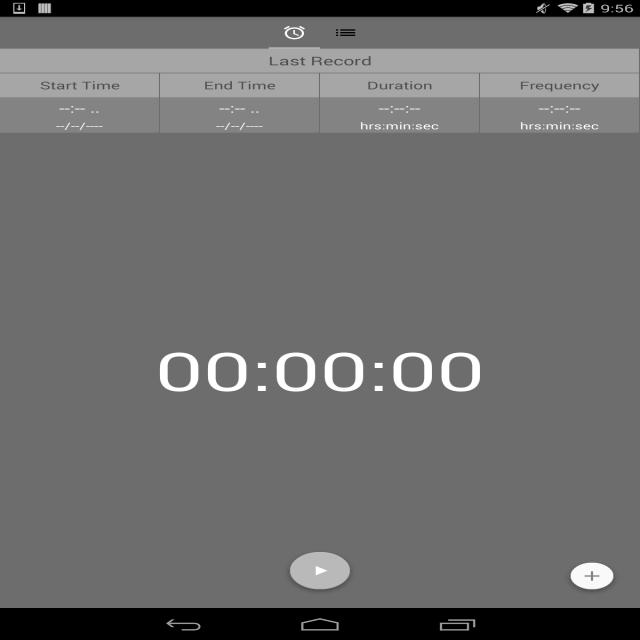ImageButton: (280, 548, 360, 597), (561, 559, 623, 597)
ImageView: (282, 24, 307, 40), (333, 24, 358, 40)
TextView: (0, 48, 639, 72), (155, 334, 251, 406), (272, 334, 368, 406), (389, 334, 485, 406), (0, 74, 159, 98), (160, 74, 319, 98), (320, 74, 479, 98), (480, 74, 639, 98), (0, 97, 159, 119), (160, 97, 319, 119), (320, 97, 479, 119), (480, 97, 639, 119), (0, 119, 159, 132), (160, 119, 319, 132), (320, 119, 479, 132), (480, 119, 639, 132), (251, 334, 272, 406), (368, 334, 389, 406)
